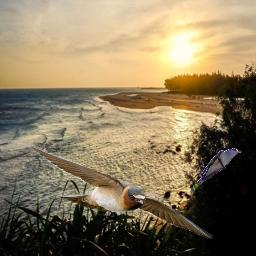Cuckoo: (190, 148, 242, 193)
Swallow: (26, 142, 214, 239)
